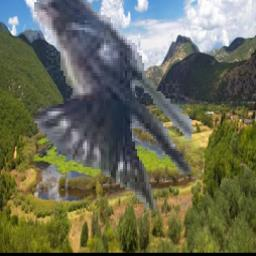Swallow: (30, 0, 195, 214)
